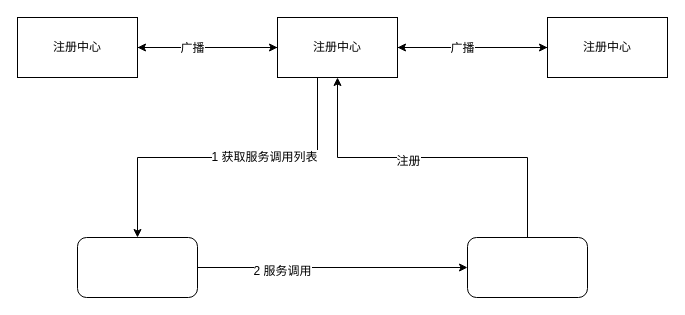
Some shapes in this 685 by 315 pixel diagram are drawn without their labels. Each missing label, with the centre of its shape:
服务提供者: [527,267]
服务调用者: [137,267]
